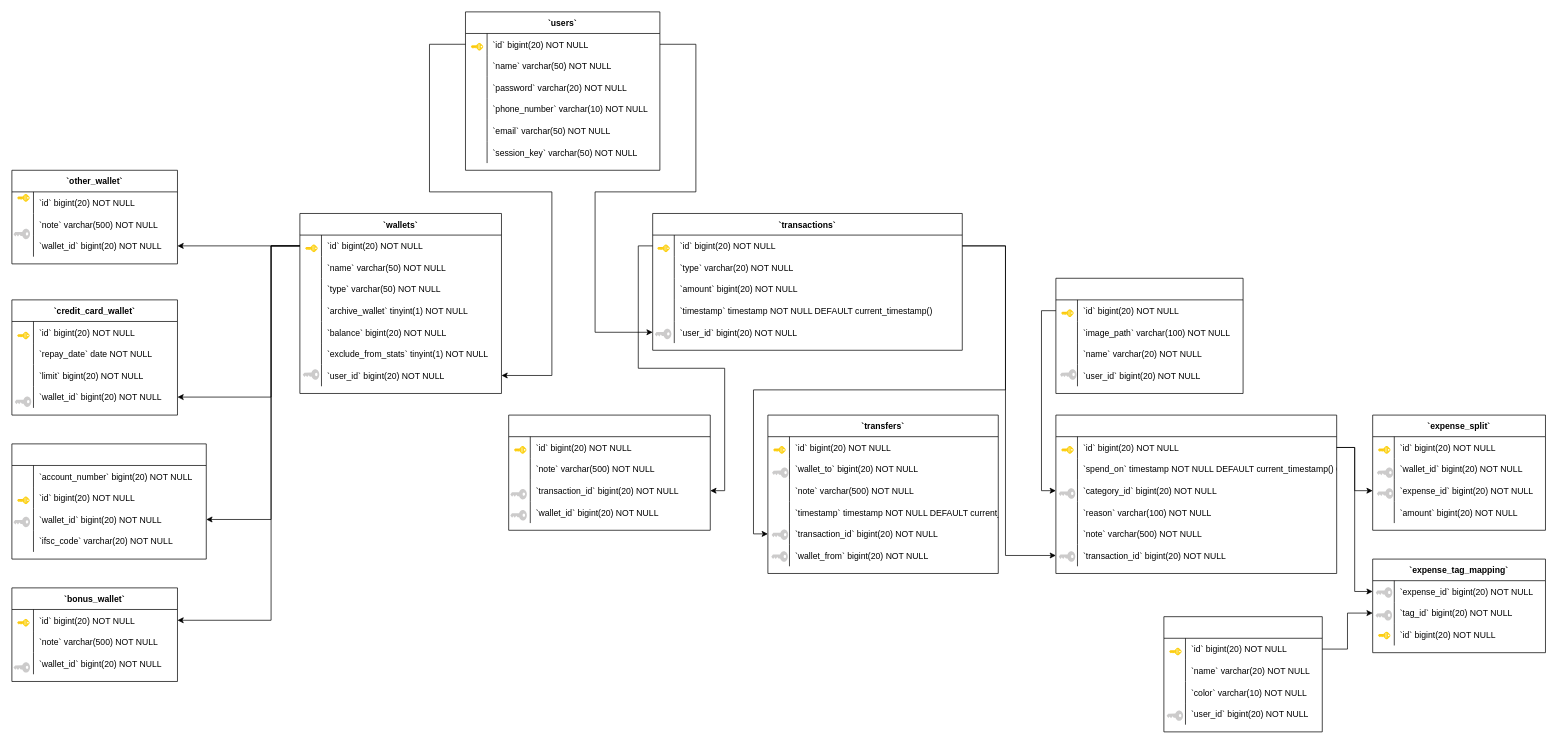
The diagram is 1557 pixels wide and 744 high, and some of its shapes have lost their labels. The shapes that lost their labels are listed below. From the top down, each one's box as (x1, y1, x2, y2) in pixels, then its label:
(1055, 278, 1243, 393): `categories`
(508, 414, 710, 530): `incomes`
(11, 443, 206, 559): `bank_wallet`
(1055, 414, 1337, 573): `expenses`
(1163, 616, 1322, 732): `tags`
